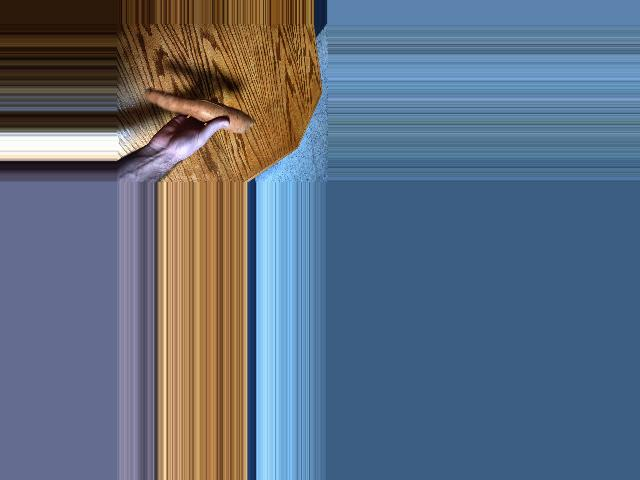sweet_potato: (139, 97, 251, 127)
